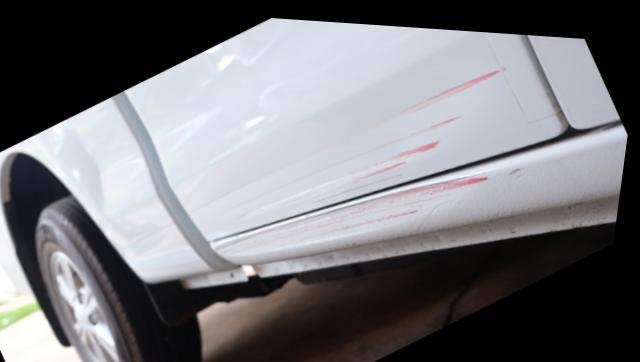scratch: (226, 55, 507, 210), (227, 166, 497, 252)
